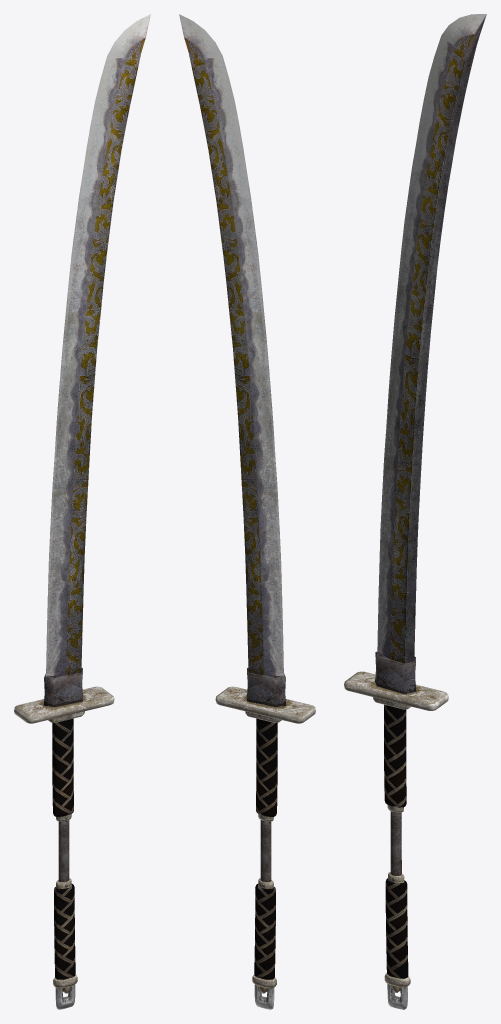
File: bs_swo014.obj
3 views of the same model, side by side, from view 1: azimuth 30°, elevation 25°; view 2: azimuth 150°, elevation 25°; view 3: azimuth 330°, elevation 25° (orthographic). The views are drawn at different scales.
Visible parts, largest first — view 1: bs_swo014_000_LOD_1; view 2: bs_swo014_000_LOD_1; view 3: bs_swo014_000_LOD_1.
Boxes of the visible parts, bbox=[...] form: bs_swo014_000_LOD_1: bbox=[14, 14, 150, 1009]; bs_swo014_000_LOD_1: bbox=[179, 14, 315, 1009]; bs_swo014_000_LOD_1: bbox=[344, 14, 486, 1009].
Bounding box in the file's own units: 40.33 × 287 × 8.86.
